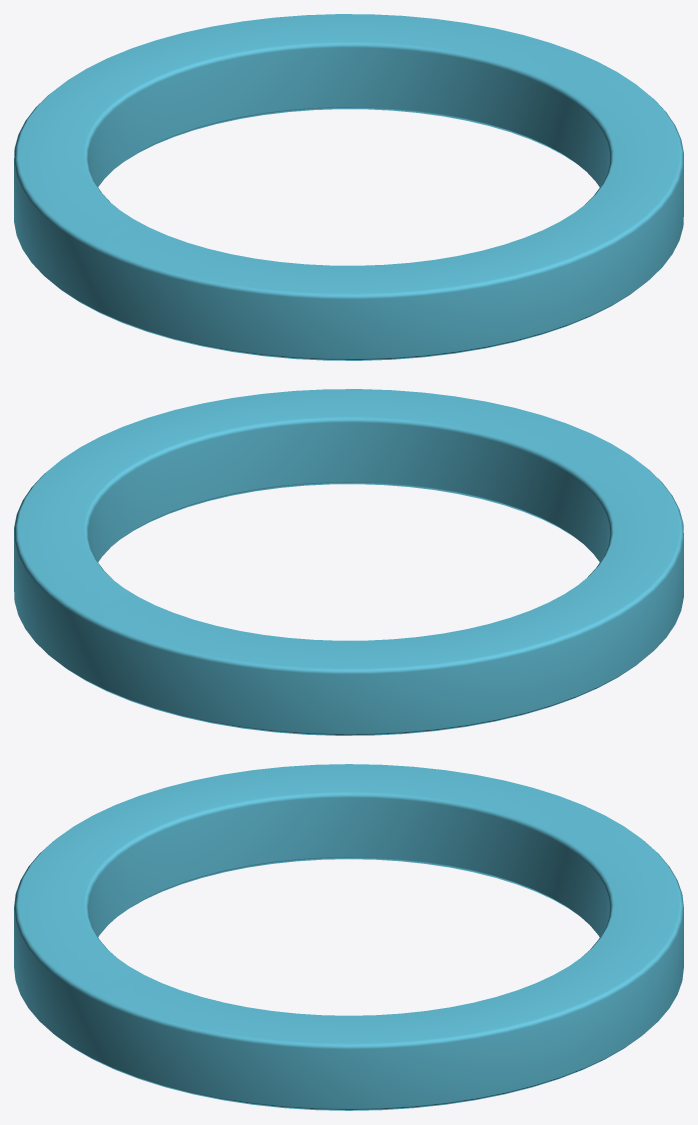
3 renders of one model, top to bottom at view 1: azimuth 30°, elevation 25°; view 2: azimuth 150°, elevation 25°; view 3: azimuth 270°, elevation 25°, orthographic.
Visible parts, largest first — view 1: seal_body; view 2: seal_body; view 3: seal_body.
Boxes of the visible parts, x1,y1,x2,y2 form: seal_body: (14, 14, 683, 360); seal_body: (14, 389, 683, 735); seal_body: (14, 764, 683, 1110).
Size of the model in its own units: 0.0857 by 0.00952 by 0.0857.
